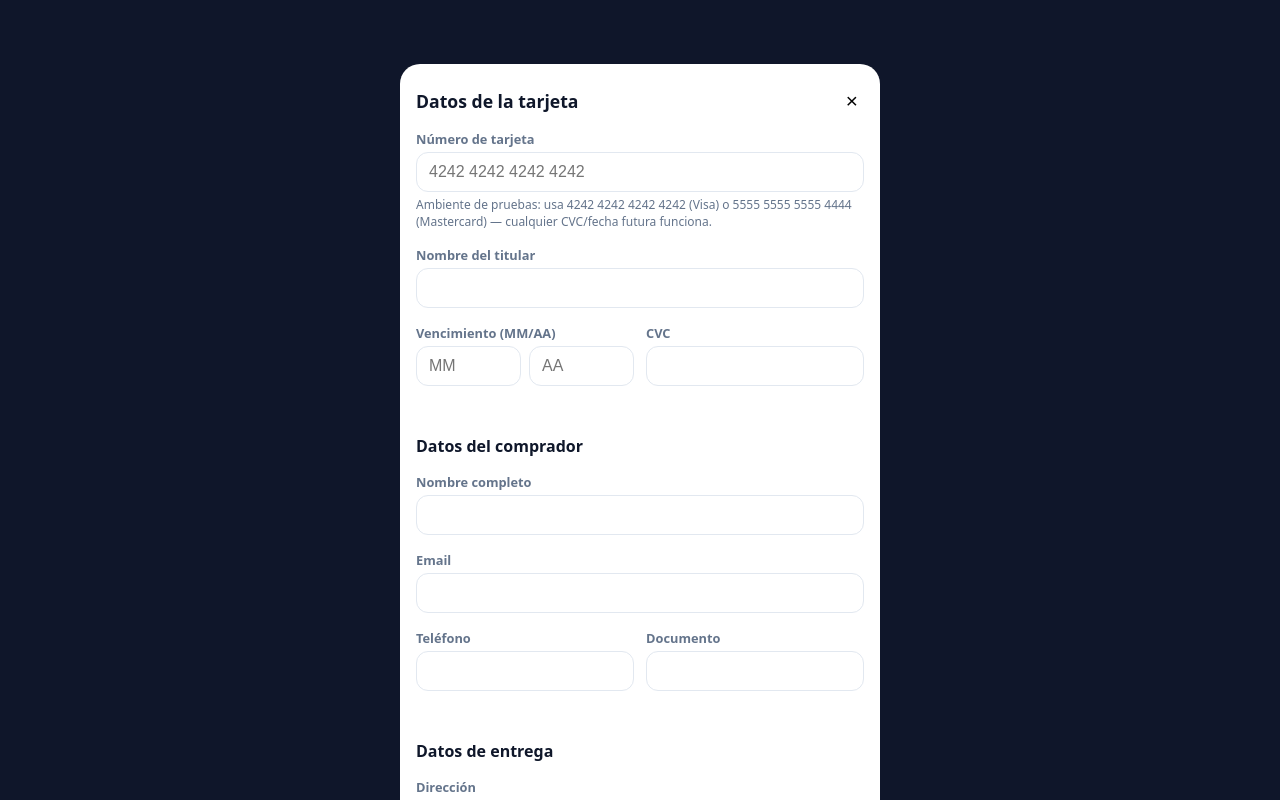
Test: PaymentInfoModal › detects the Visa brand as the user types the card number
The image size is (1280, 800).
In the field labelled "Número de tarjeta": (640, 172) [416,152,864,192], type "4242424242424242"
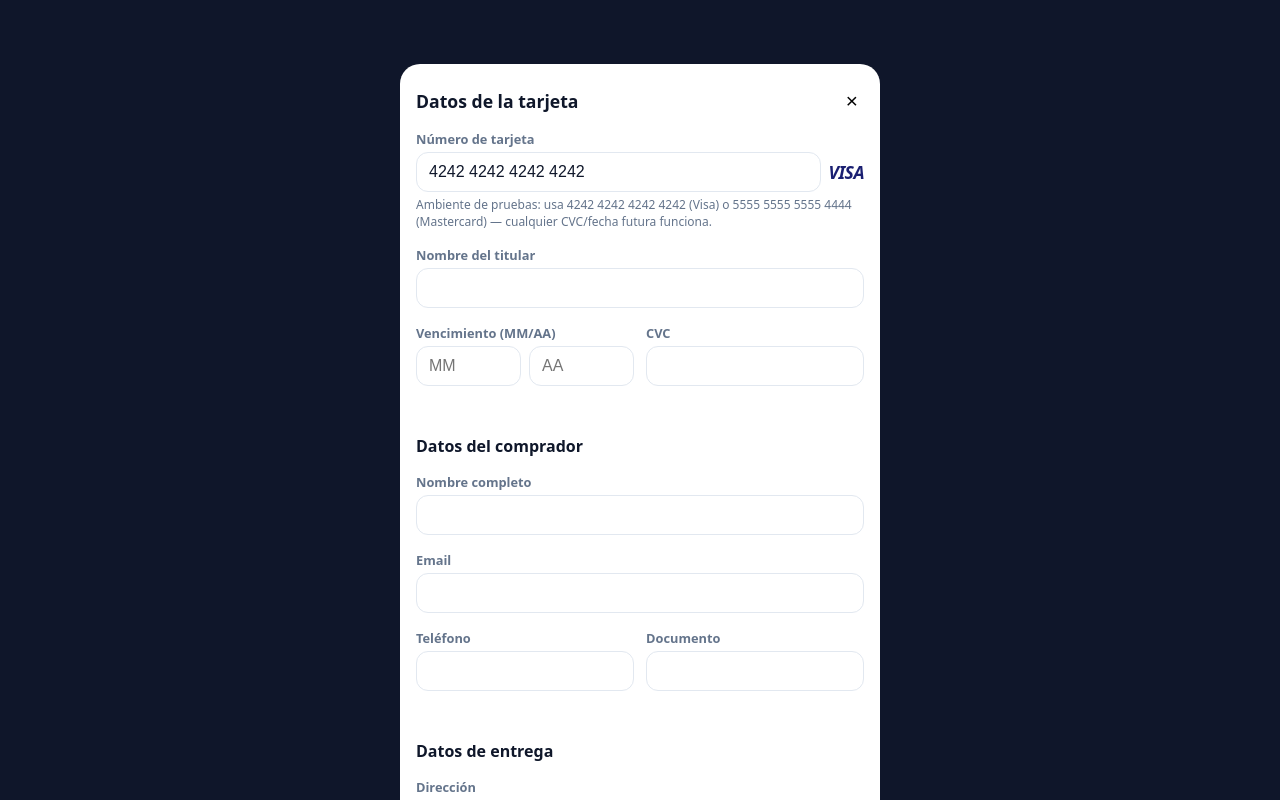
Now the text "VISA" is shown, box [828,160,864,184]
